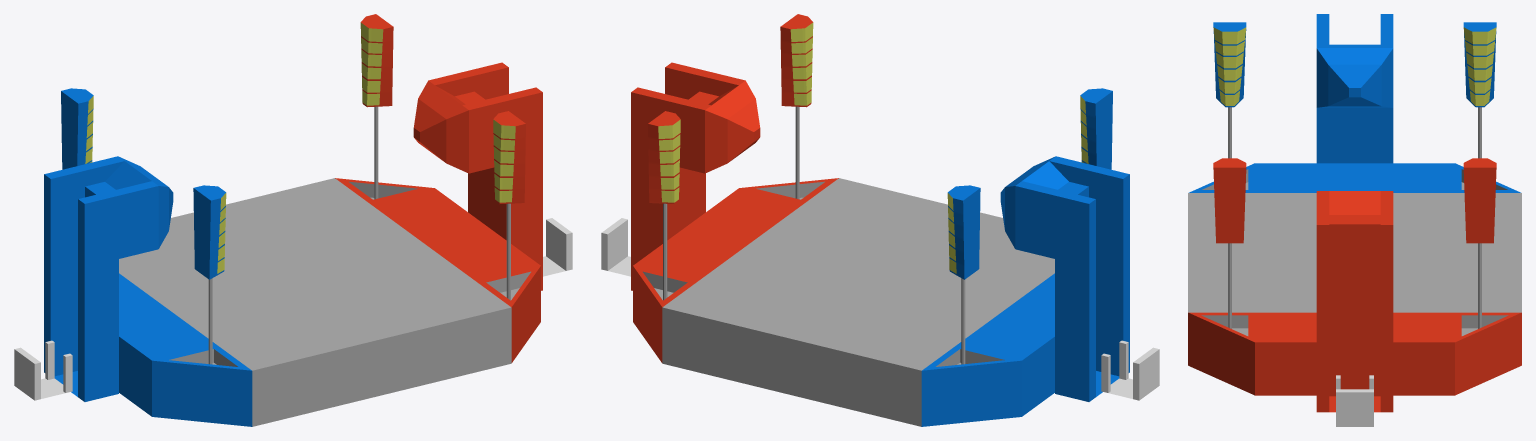
Rendered from Arena.fbx.
The picture shows the model from 3 angles, left to right: view 1: azimuth 30°, elevation 25°; view 2: azimuth 150°, elevation 25°; view 3: azimuth 270°, elevation 25°; orthographic projection. The views are drawn at different scales.
Parts seen in each view (by area): view 1: Arena, Corner_1, Corner_2, Poste.002, Poste.003, Poste.001, Poste, Plataforma_1, Plataforma_2; view 2: Arena, Corner_1, Corner_2, Poste.003, Poste.002, Poste, Poste.001, Plataforma_1, Plataforma_2; view 3: Arena, Corner_2, Corner_1, Poste.002, Poste.003, Poste.001, Poste, Plataforma_2.
Boxes of the visible parts, box(x1,y1,x2,y2) form: Arena: box(119, 178, 540, 426); Corner_1: box(44, 156, 173, 401); Corner_2: box(413, 62, 542, 290); Poste.002: box(493, 111, 525, 300); Poste.003: box(360, 14, 393, 199); Poste.001: box(193, 185, 226, 364); Poste: box(61, 88, 93, 169); Plataforma_1: box(14, 340, 72, 400); Plataforma_2: box(543, 218, 572, 276); Arena: box(633, 178, 1054, 426); Corner_1: box(1000, 156, 1129, 401); Corner_2: box(631, 62, 760, 290); Poste.003: box(648, 111, 680, 300); Poste.002: box(780, 14, 813, 199); Poste: box(947, 185, 980, 364); Poste.001: box(1080, 88, 1112, 169); Plataforma_1: box(1101, 340, 1159, 400); Plataforma_2: box(601, 218, 630, 276); Arena: box(1188, 163, 1521, 395); Corner_2: box(1316, 191, 1393, 412); Corner_1: box(1316, 14, 1393, 163); Poste.002: box(1213, 158, 1246, 328); Poste.003: box(1463, 158, 1496, 328); Poste.001: box(1213, 22, 1246, 158); Poste: box(1463, 22, 1496, 158); Plataforma_2: box(1336, 375, 1373, 426).
Size of the model in its own units: 1528 by 609 by 870.
